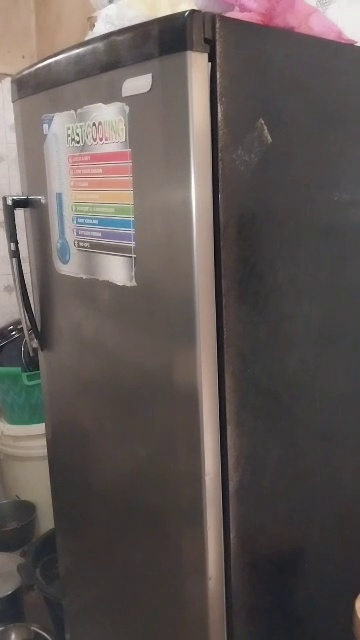refrigerator: (6, 23, 359, 636)
